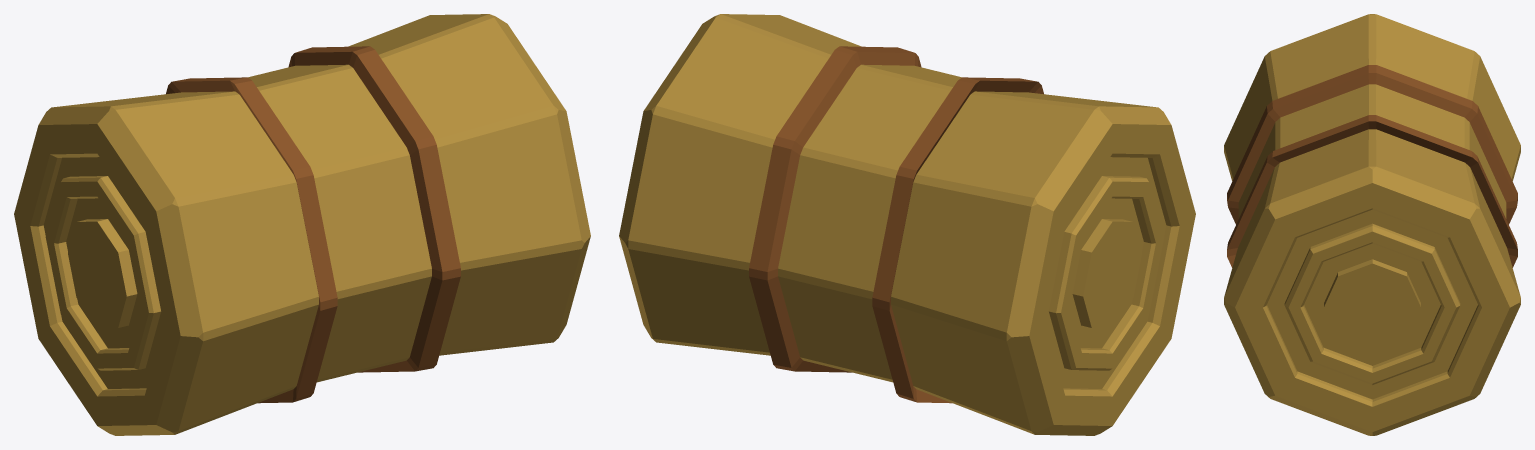
File: HayBale 1.fbx
The picture shows the model from 3 angles, left to right: view 1: azimuth 30°, elevation 25°; view 2: azimuth 150°, elevation 25°; view 3: azimuth 270°, elevation 25°; orthographic projection. The views are drawn at different scales.
Parts seen in each view (by area): view 1: Cylinder.001; view 2: Cylinder.001; view 3: Cylinder.001.
Part boxes in pixels (x1,y1,x2,y2): Cylinder.001: (14,14,590,435); Cylinder.001: (619,14,1195,435); Cylinder.001: (1224,14,1520,435).
Size of the model in its own units: 103 by 77.89 by 77.89.
